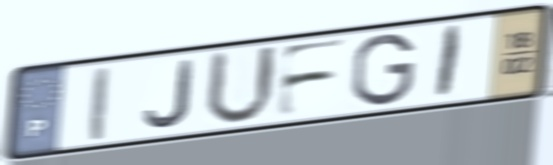F: (272, 35, 354, 122)
G: (349, 30, 418, 109)
I: (431, 22, 467, 103), (88, 63, 113, 145)
J: (141, 56, 197, 131)
U: (201, 42, 281, 128)
